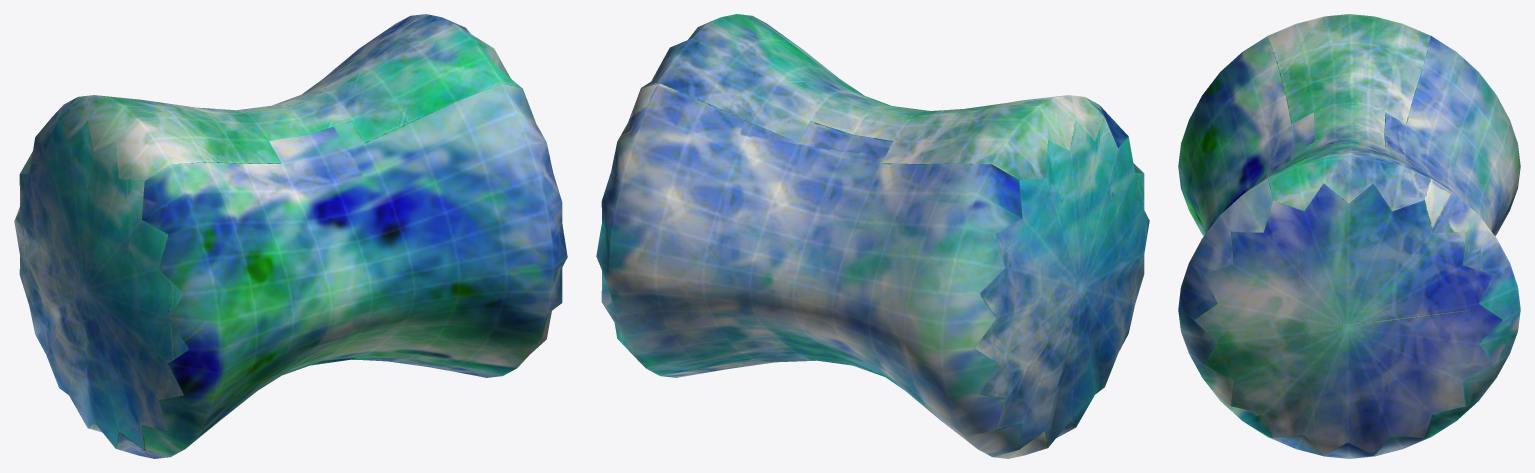
File: attach_earth_Blue.FBX
3 renders of one model, left to right at view 1: azimuth 30°, elevation 25°; view 2: azimuth 150°, elevation 25°; view 3: azimuth 270°, elevation 25°, orthographic. The views are drawn at different scales.
Visible parts, largest first — view 1: 접착; view 2: 접착; view 3: 접착.
Boxes of the visible parts, x1,y1,x2,y2 form: 접착: (14,14,567,458); 접착: (596,14,1149,458); 접착: (1178,14,1520,458).
Bounding box in the file's own units: 4.03 × 3.26 × 3.17.
1 material, 1 textured.
